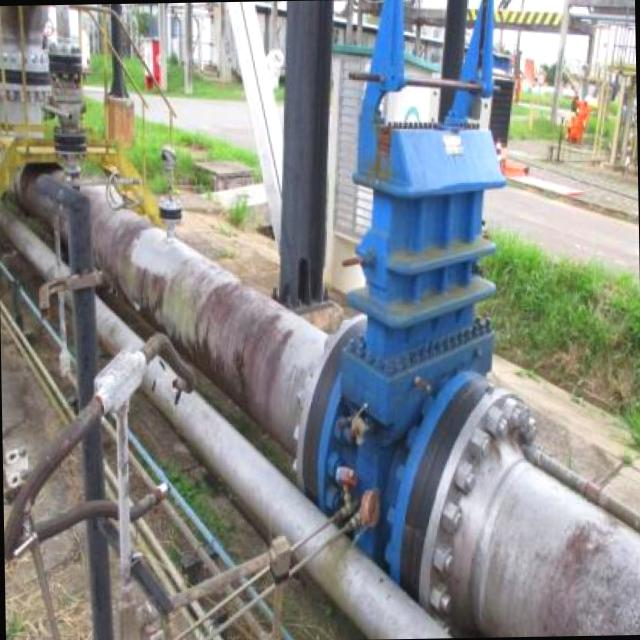gas: (28, 161, 640, 637), (1, 202, 451, 639)
